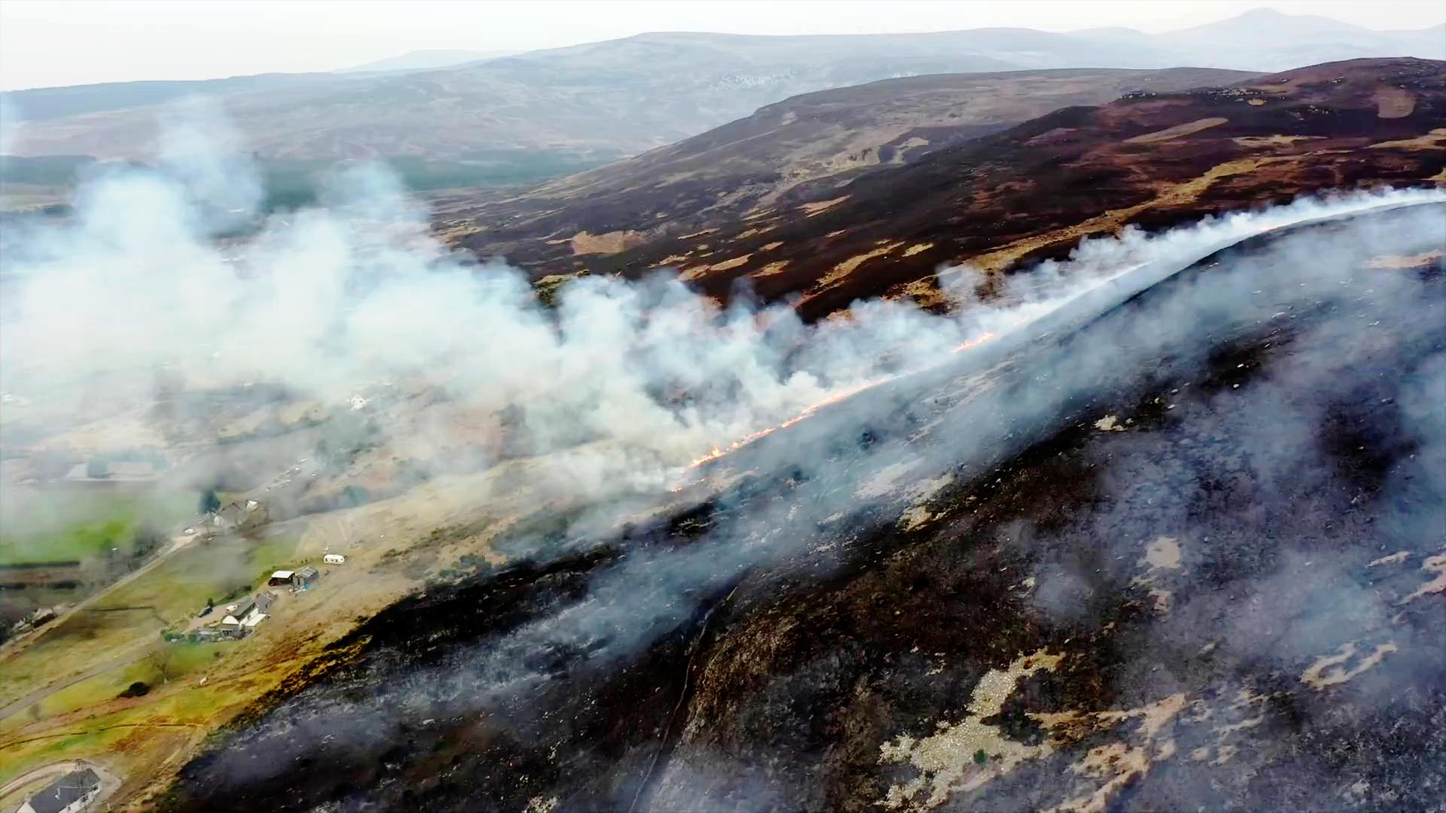smoke: (28, 143, 236, 416), (221, 183, 422, 426), (495, 275, 699, 444), (382, 268, 539, 413), (793, 311, 938, 441), (1067, 232, 1196, 354), (944, 288, 1074, 407), (706, 315, 831, 437), (1188, 217, 1283, 315), (1291, 198, 1362, 287)
